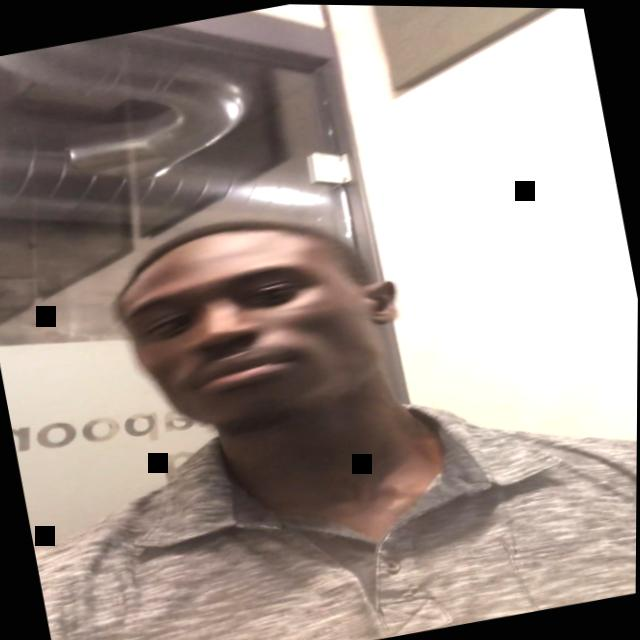NO-Mask: (110, 224, 403, 456)
